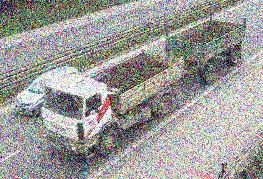truck: (43, 16, 243, 159)
